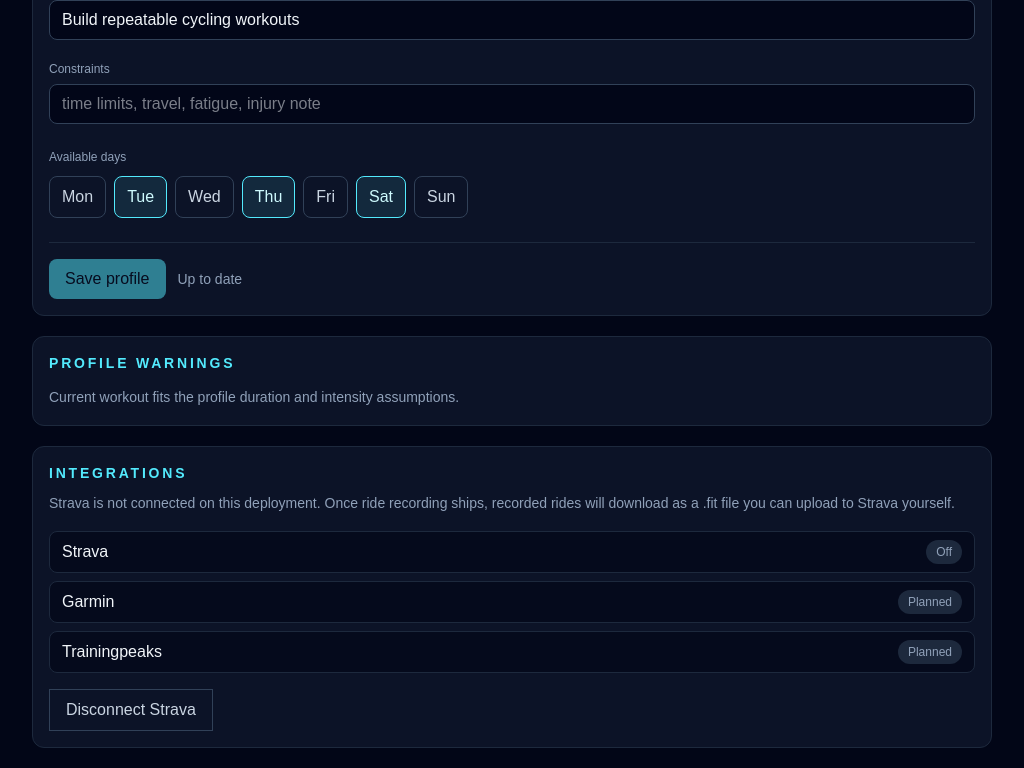
Scenario: ProfileSettings Strava disconnect while Strava is off › keeps the control and shows the error when disconnect fails
(page scrolled)
Click the button "Disconnect Strava" at (131,710), box 49,689 -> 213,731
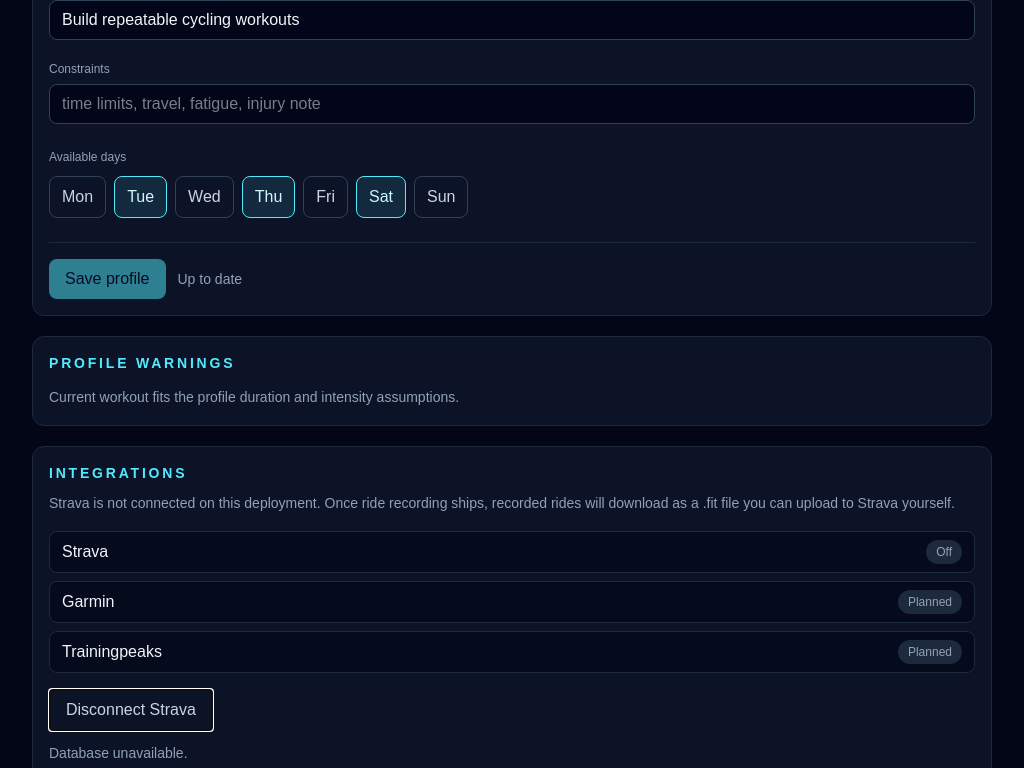
Expected: the text "Database unavailable." is shown, 49,745 -> 188,761
